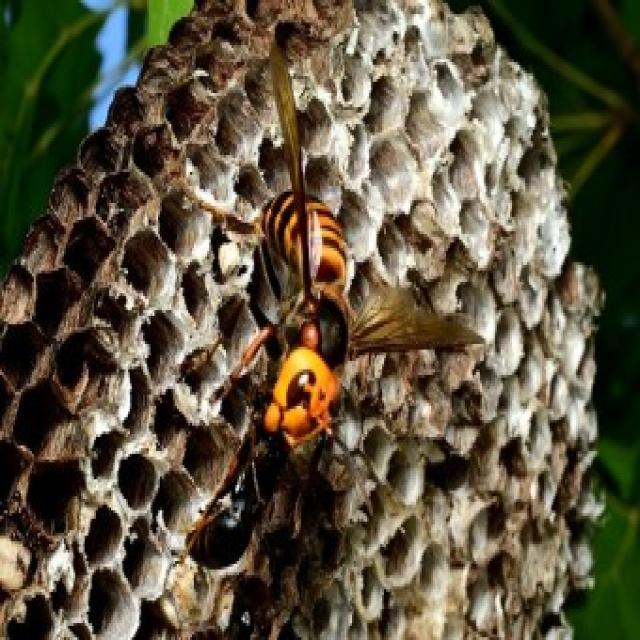Wasp: (232, 48, 484, 452)
